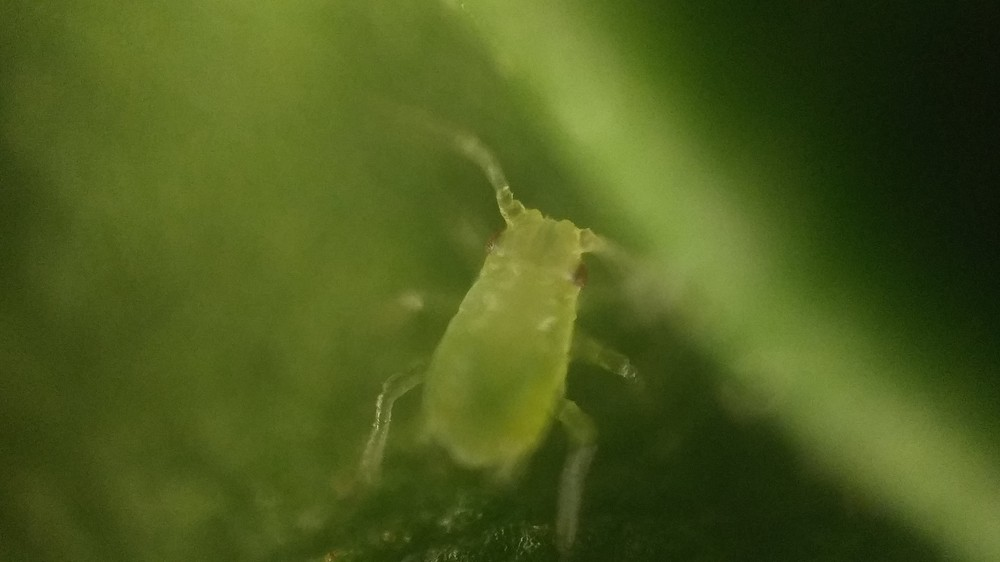Pulgon: (320, 121, 751, 548)
